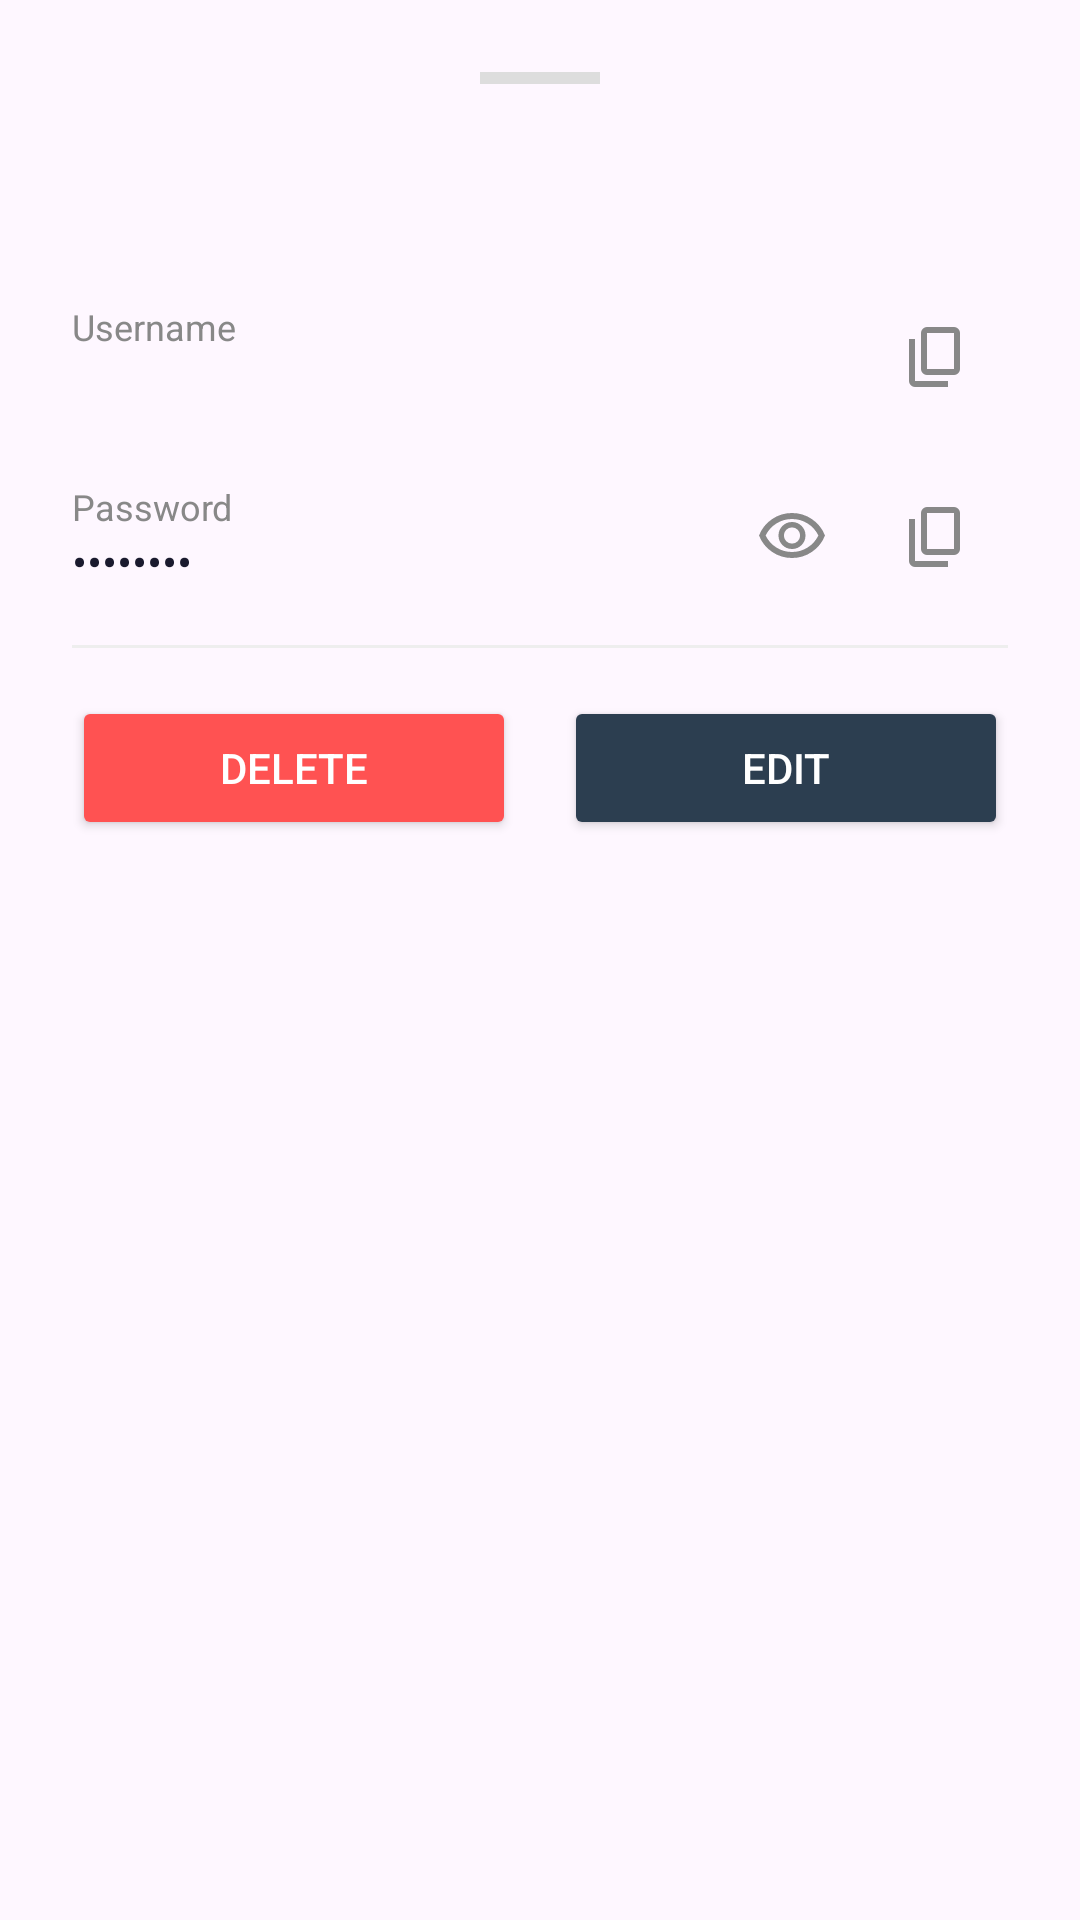

Where to tap for icons on this 1080×1920 app screen, as [x,y]:
Copy password: [934,537]
Copy username: [934,357]
Toggle password visibility: [792,535]
